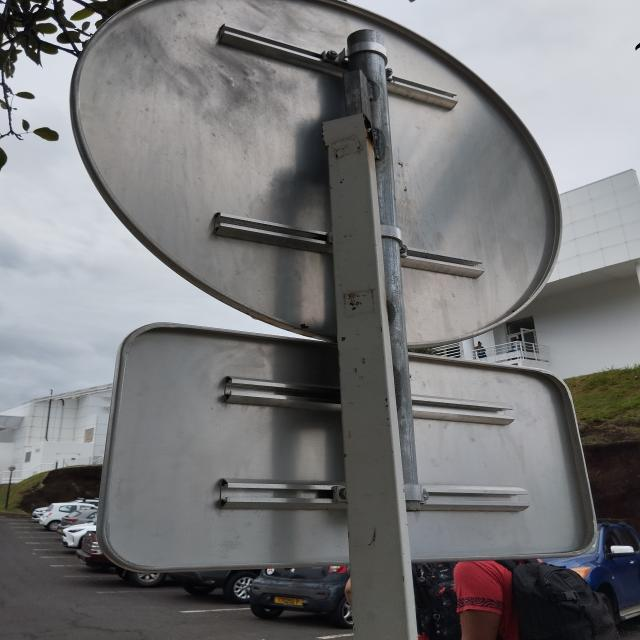Panneau: (69, 0, 564, 345)
